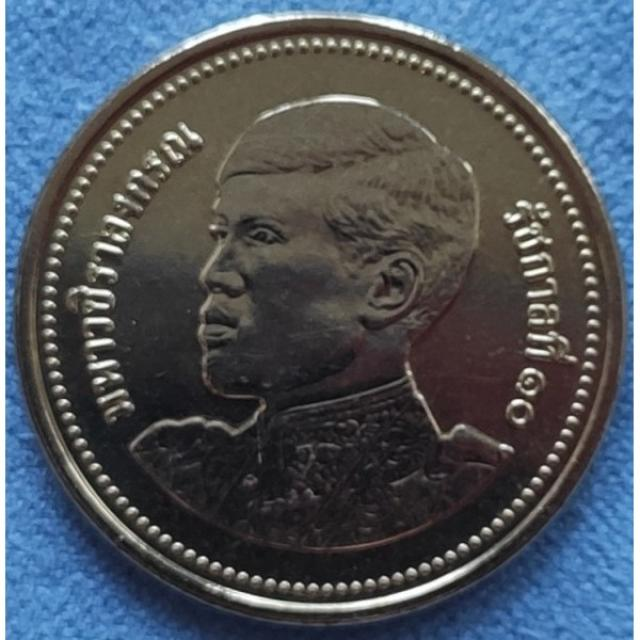2 Bath: (18, 12, 629, 634)
